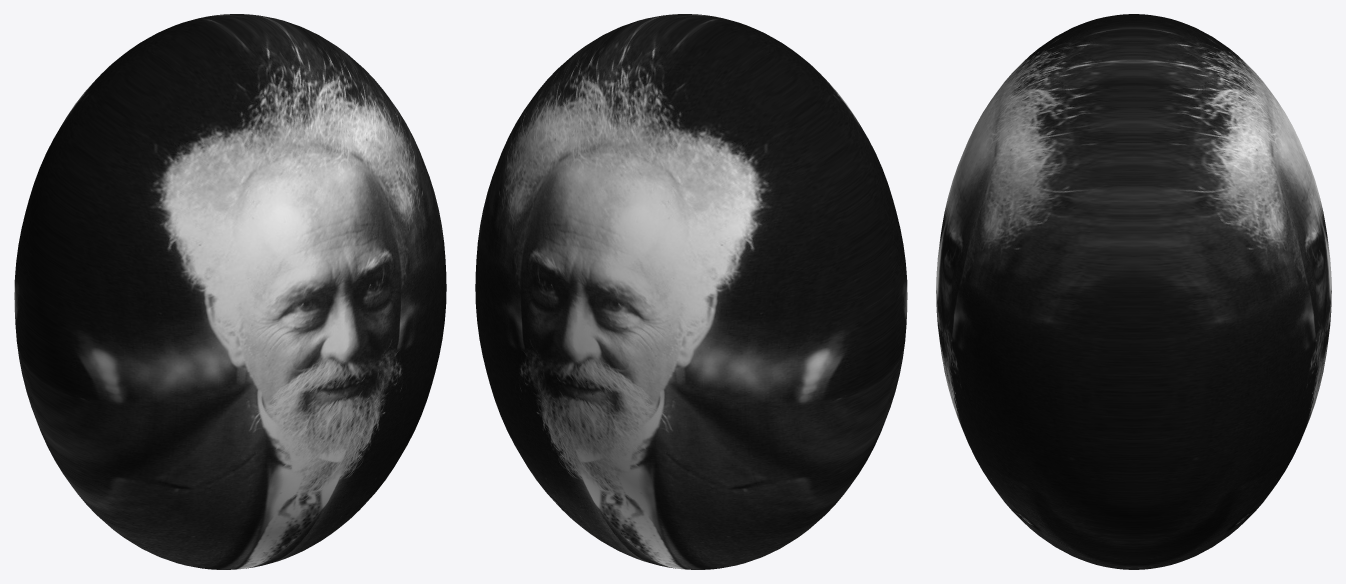
3 renders of one model, left to right at view 1: azimuth 30°, elevation 25°; view 2: azimuth 150°, elevation 25°; view 3: azimuth 270°, elevation 25°, orthographic.
Visible parts, largest first — view 1: head; view 2: head; view 3: head.
Boxes of the visible parts, box(x1,y1,x2,y2) form: head: box(14, 14, 446, 569); head: box(475, 14, 907, 569); head: box(936, 14, 1331, 569).
Bounding box in the file's own units: 1.52 × 2 × 1.37.
1 material, 1 textured.
